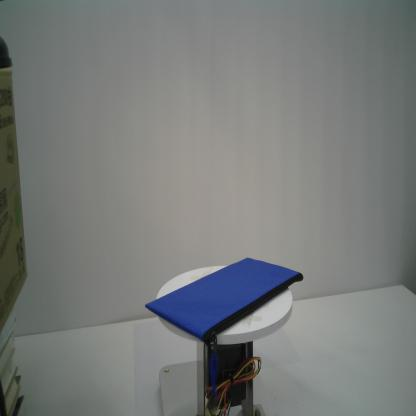Stationery: (145, 257, 304, 409)
